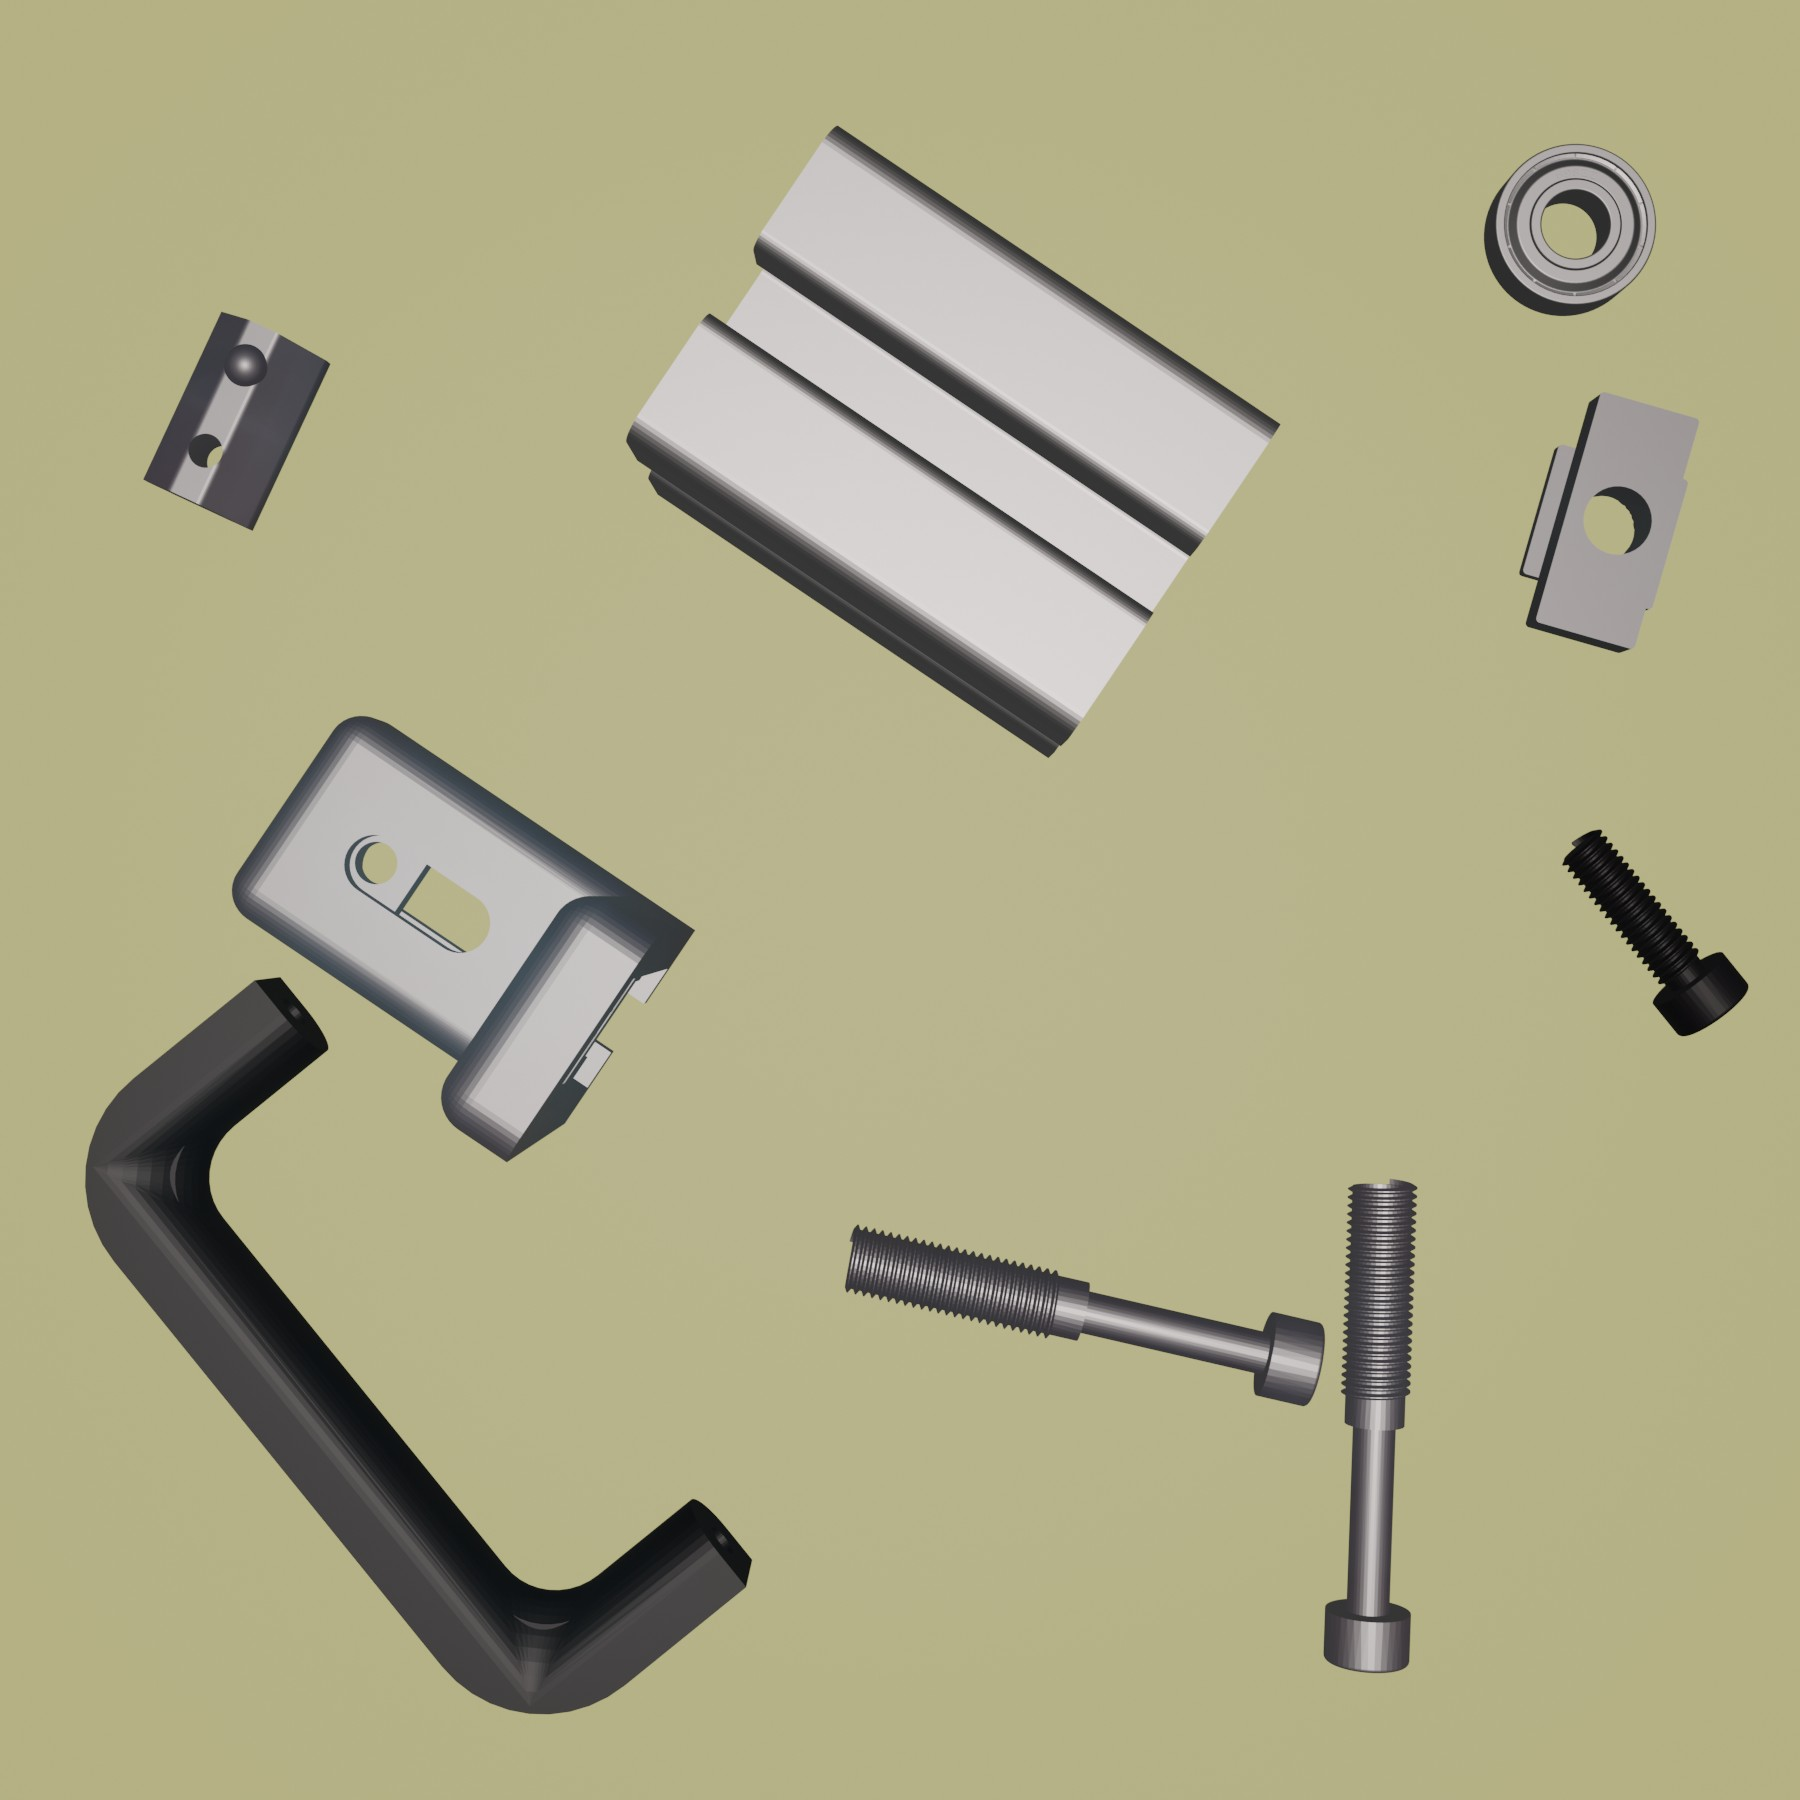Aluminium Extension: (620, 122, 1282, 762)
Ball Bearing: (1482, 142, 1658, 320)
Multiwinkel: (231, 715, 697, 1164)
Pull Handle: (82, 974, 753, 1714)
Shoulder Socket Head Cap Screw: (839, 1226, 1329, 1408), (1319, 1174, 1419, 1676)
Socket Head Cap Screw: (1559, 824, 1751, 1042)
T Nut Square: (1516, 389, 1701, 658)
T Spring Nut: (142, 308, 331, 536)
